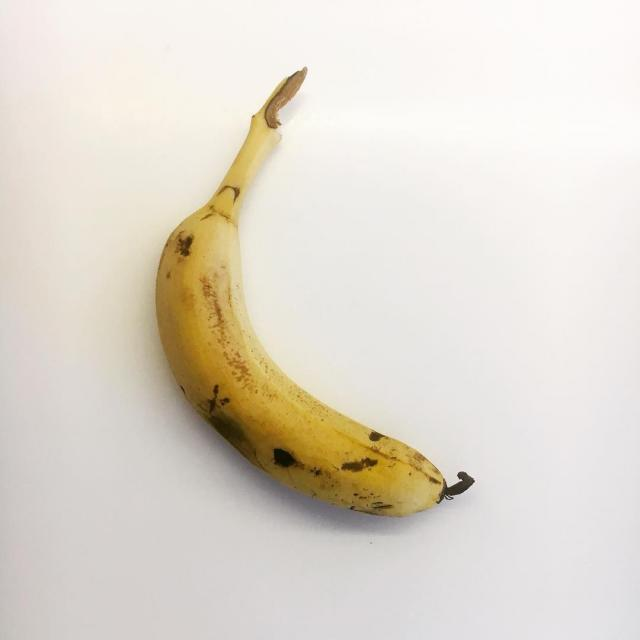Banana: (150, 67, 462, 523)
